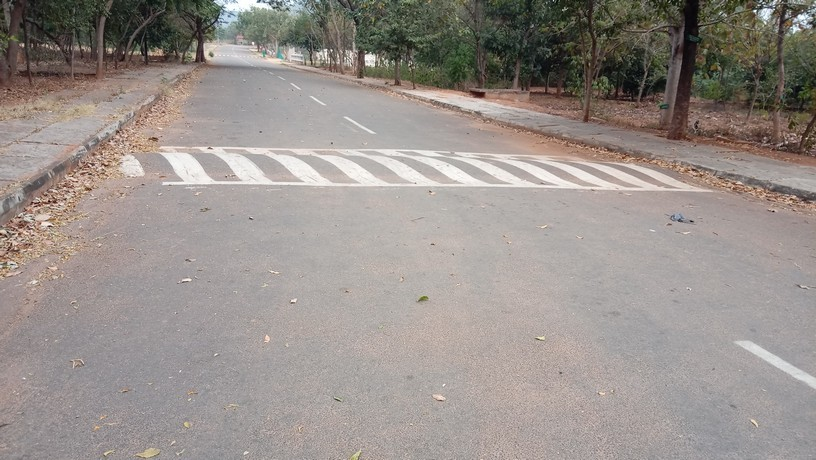bump: (80, 145, 719, 190)
